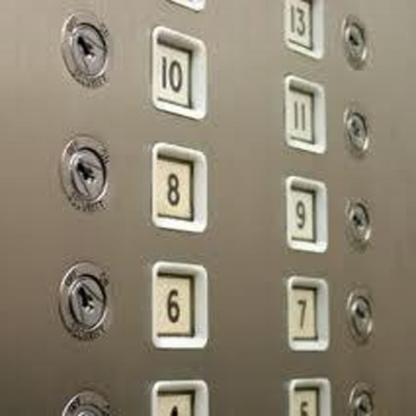10: (143, 20, 214, 127)
11: (277, 71, 331, 159)
6: (144, 250, 215, 357)
7: (280, 269, 334, 356)
8: (142, 134, 213, 241)
9: (279, 170, 333, 258)
keyhole: (55, 6, 117, 92), (53, 256, 113, 344), (56, 130, 113, 217), (329, 8, 378, 74), (331, 190, 380, 254), (331, 99, 380, 162), (334, 283, 382, 346)
